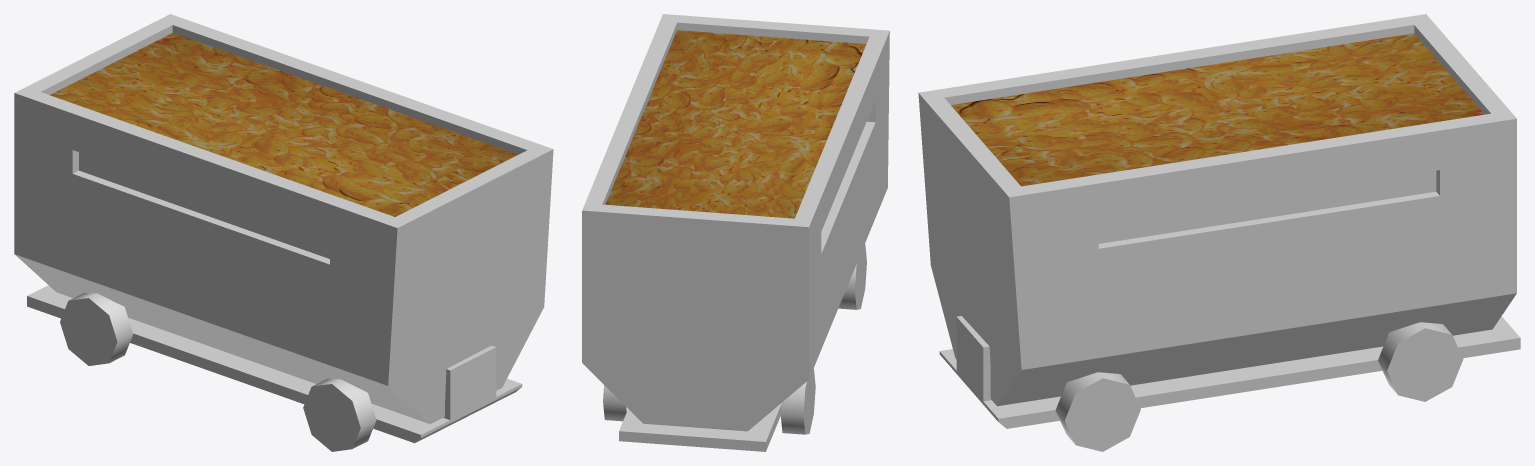
Rendered from gf_ext_trolley2_1.glb.
The picture shows the model from 3 angles, left to right: view 1: azimuth 30°, elevation 25°; view 2: azimuth 150°, elevation 25°; view 3: azimuth 270°, elevation 25°; orthographic projection. The views are drawn at different scales.
Parts seen in each view (by area): view 1: trolley.002; view 2: trolley.002; view 3: trolley.002.
Part boxes in pixels (x1,y1,x2,y2): trolley.002: (14,14,553,451); trolley.002: (582,14,889,451); trolley.002: (918,14,1520,451).
Size of the model in its own units: 2.34 by 1.64 by 3.25.
2 materials, 1 textured.
